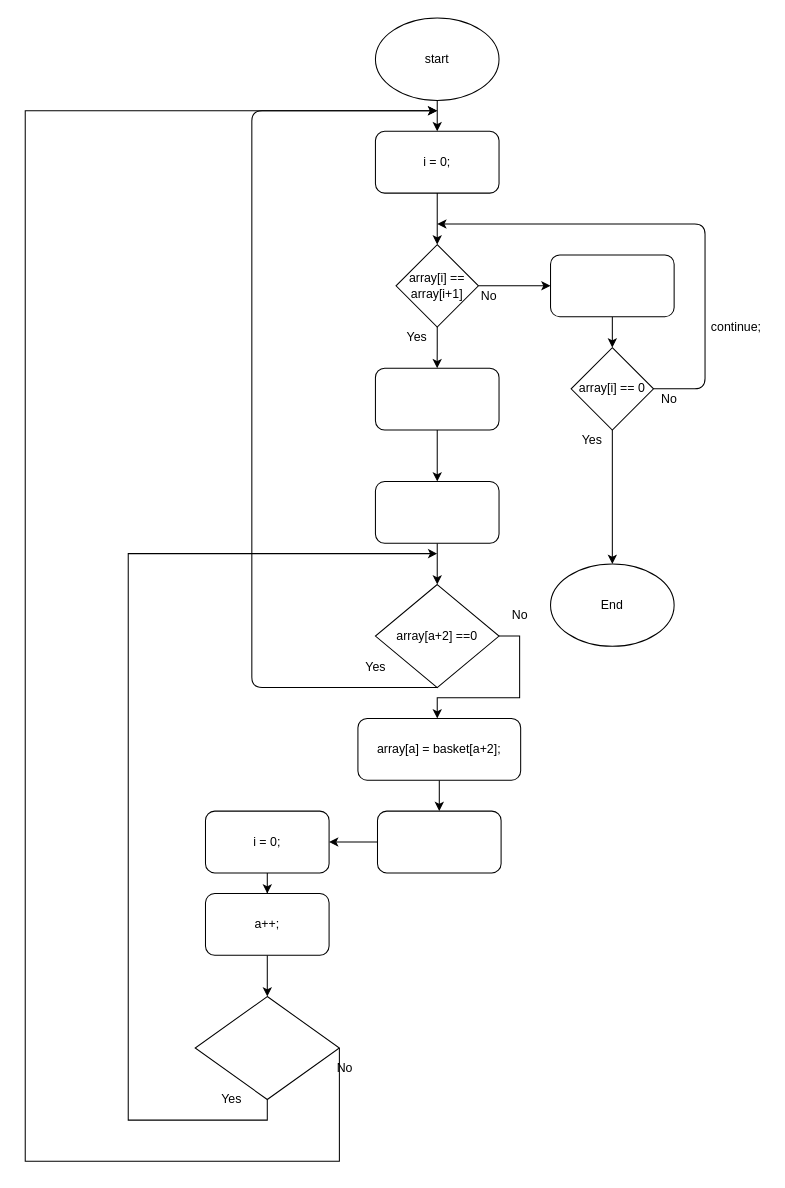
Image size: 785x1188. Some labels were removed from this diagram. The box of each missing label's shape, as (x1, y1, x2, y2) in pixels:
a < basket.length - 2: (194, 995, 339, 1100)
a = i;: (374, 480, 499, 543)
answer += 2;: (374, 367, 499, 430)
basket[a + 2] = 0;: (376, 810, 501, 873)
i++: (550, 254, 674, 317)
